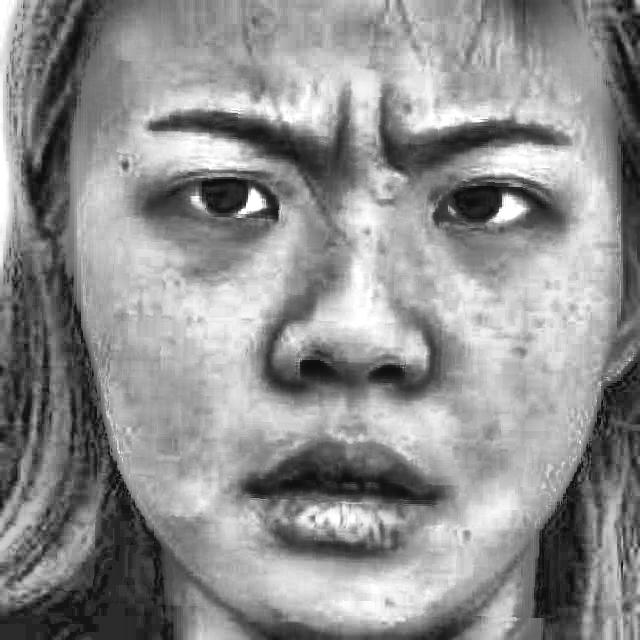angry: (97, 64, 571, 615)
